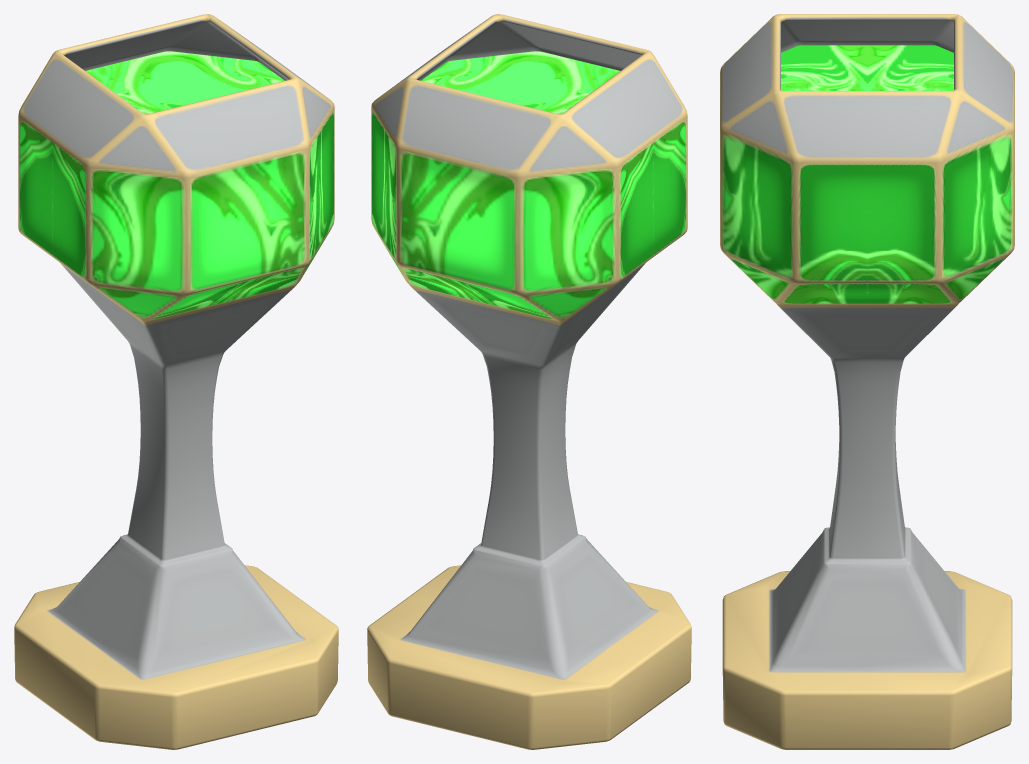
Rendered from BarCocktails01_3.FBX.
3 renders of one model, left to right at view 1: azimuth 30°, elevation 25°; view 2: azimuth 150°, elevation 25°; view 3: azimuth 270°, elevation 25°, orthographic. The views are drawn at different scales.
Parts seen in each view (by area): view 1: BarCocktails01_3; view 2: BarCocktails01_3; view 3: BarCocktails01_3.
Boxes of the visible parts, x1,y1,x2,y2 form: BarCocktails01_3: [14, 14, 338, 749]; BarCocktails01_3: [367, 14, 691, 749]; BarCocktails01_3: [720, 14, 1014, 749].
Size of what is drawn, in the model's own units: 0.0704 by 0.168 by 0.0704.
